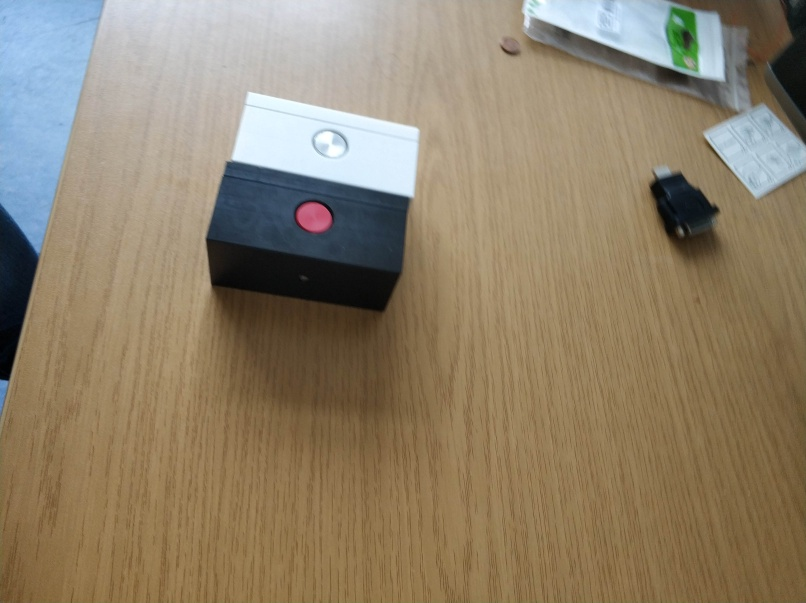black+black+red: (203, 157, 414, 313)
white+white+silver: (232, 87, 423, 203)
